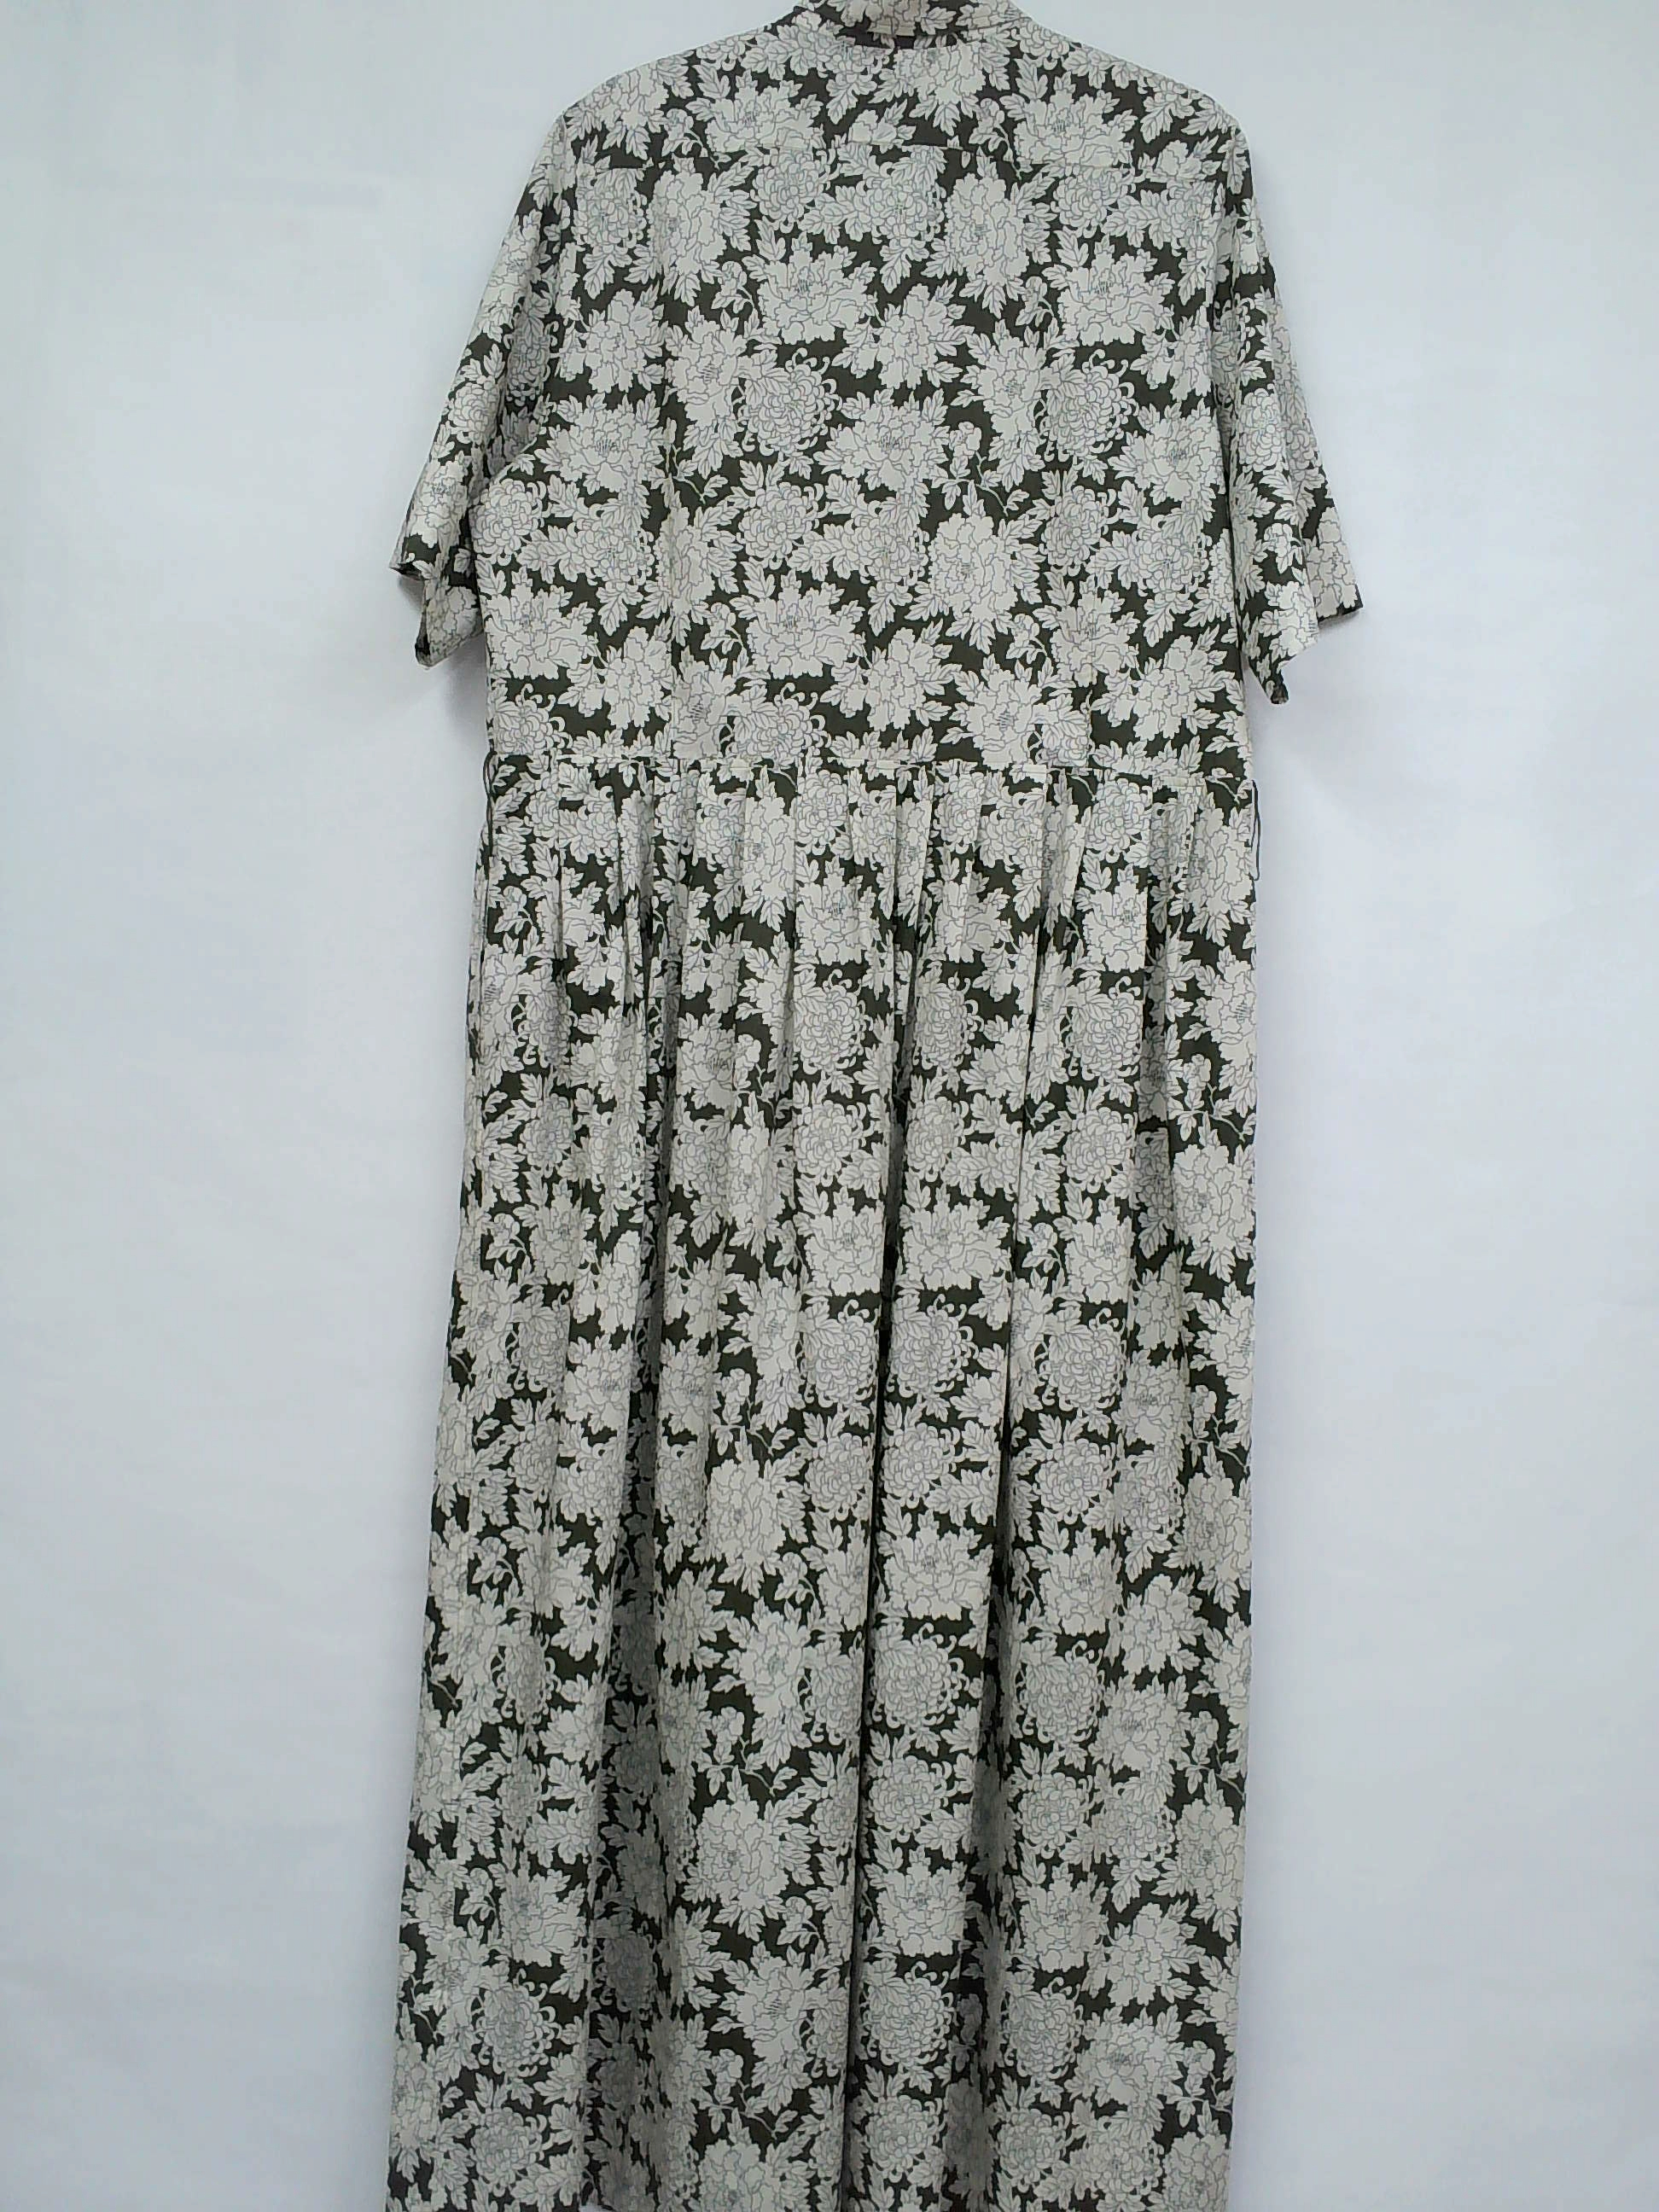seam: (392, 1857, 528, 2210)
